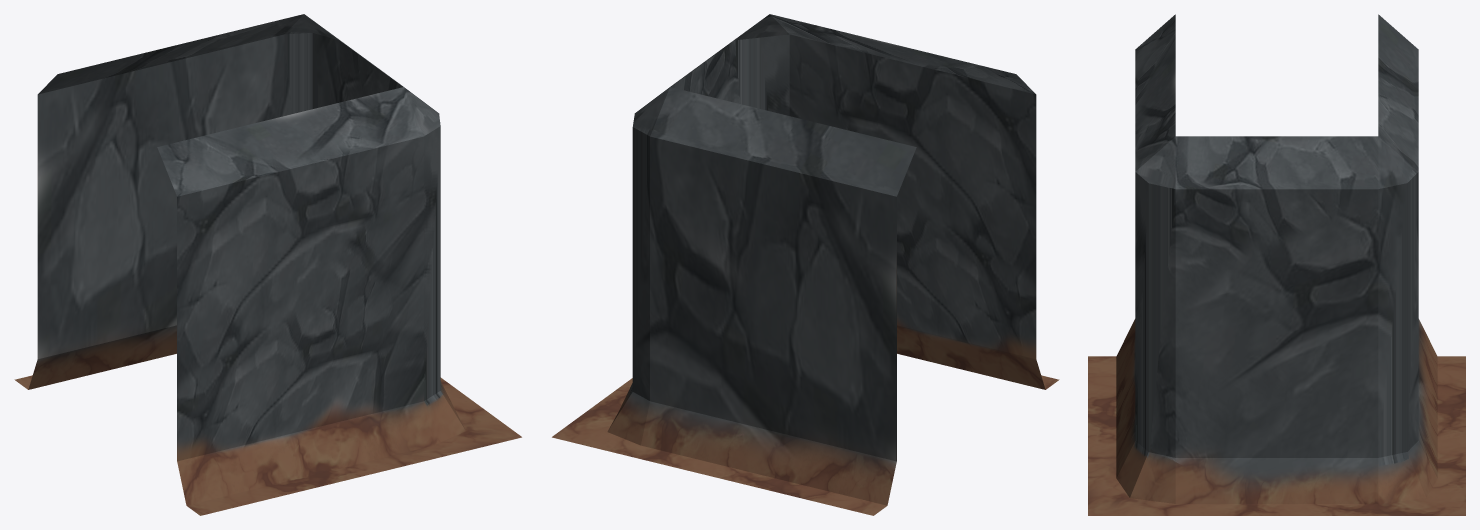
Rendered from PeninsulaWallTile.fbx.
The picture shows the model from 3 angles, left to right: view 1: azimuth 30°, elevation 25°; view 2: azimuth 150°, elevation 25°; view 3: azimuth 270°, elevation 25°; orthographic projection.
Visible parts, largest first — view 1: PeninsulaWall; view 2: PeninsulaWall; view 3: PeninsulaWall.
Part boxes in pixels (x1=…): PeninsulaWall: x1=14, y1=14, x2=521, y2=515; PeninsulaWall: x1=552, y1=14, x2=1059, y2=515; PeninsulaWall: x1=1088, y1=14, x2=1465, y2=515.
Size of the model in its own units: 100 by 100 by 100.
